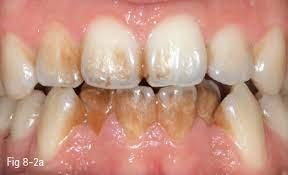Calculus: (78, 12, 146, 89), (34, 23, 85, 85), (38, 89, 84, 155)
Discoloration: (111, 79, 161, 138), (153, 80, 200, 136), (80, 83, 120, 137), (195, 77, 228, 129)
